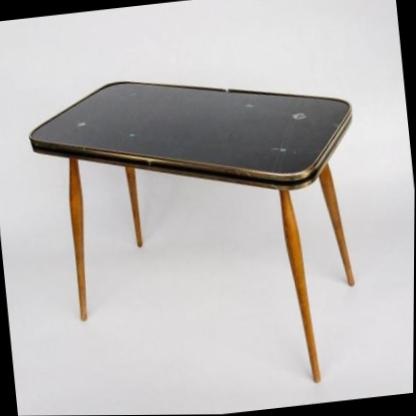Table: (9, 42, 408, 416)
